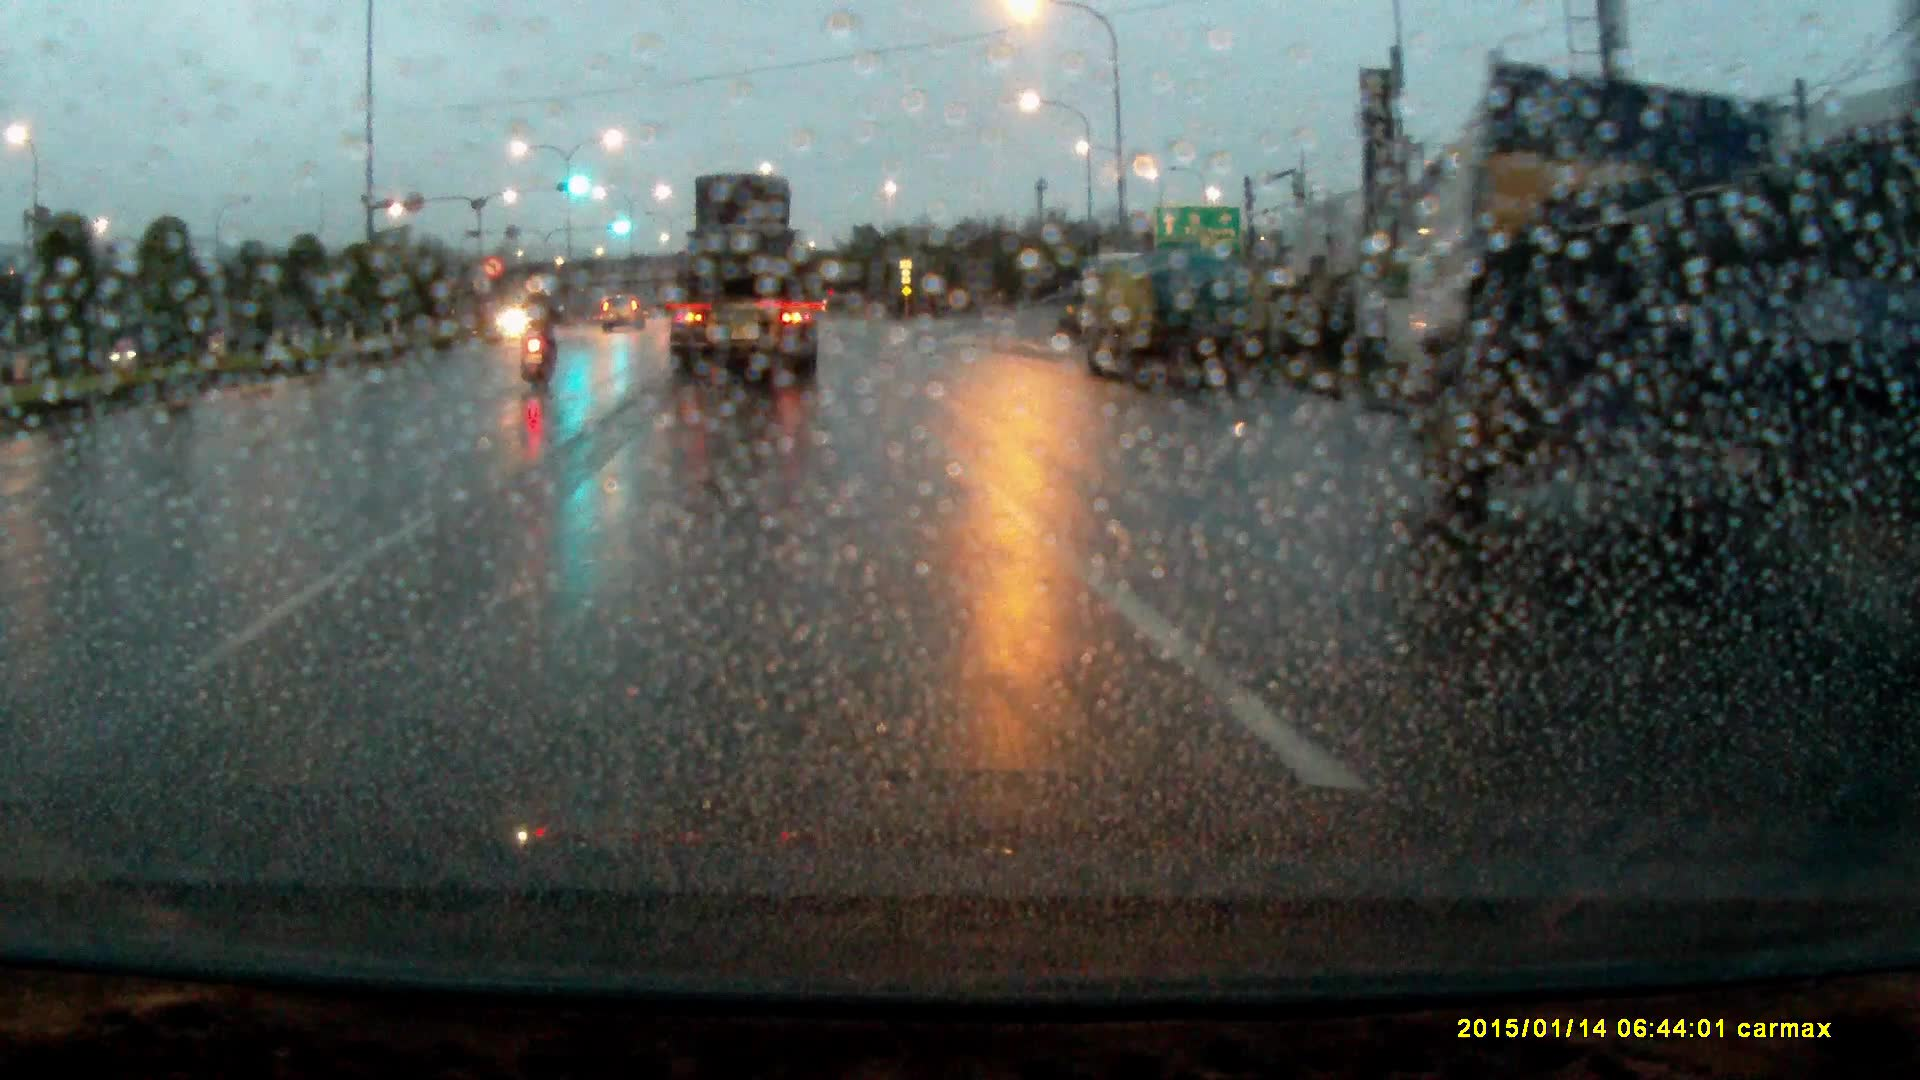rider: (516, 272, 570, 381)
vehicle: (1406, 61, 1920, 552), (663, 170, 823, 393), (1071, 254, 1259, 390), (602, 294, 647, 335)
